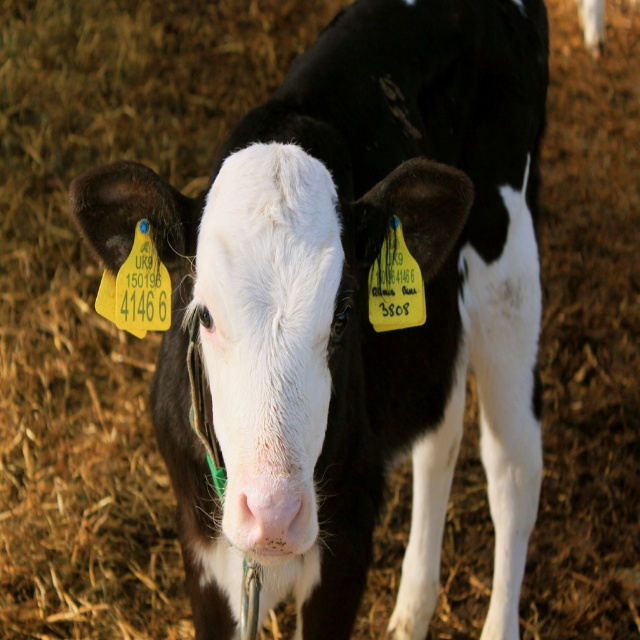Cattle: (68, 0, 550, 640), (578, 0, 605, 60)
